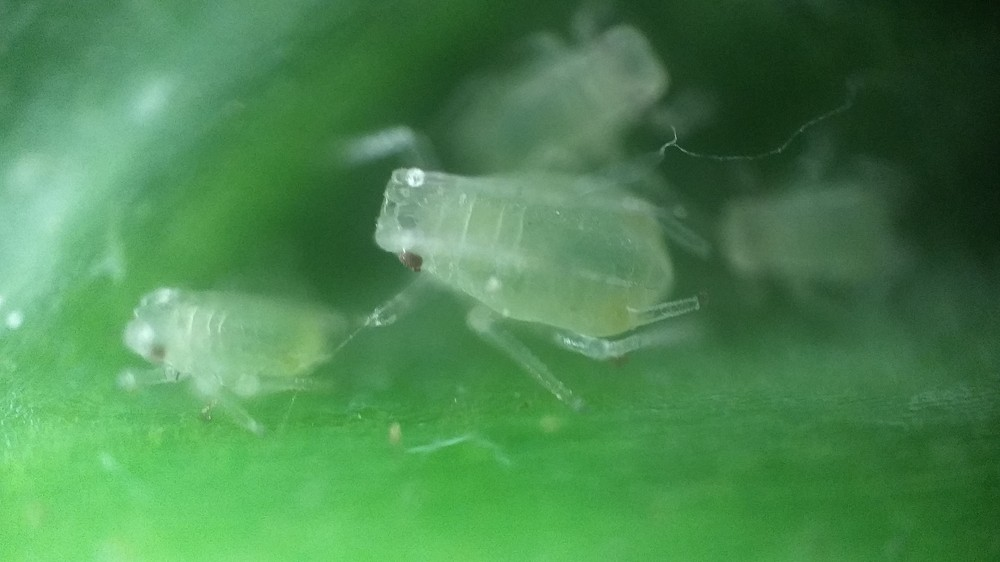Pulgon: (352, 124, 750, 411), (97, 252, 389, 441)
